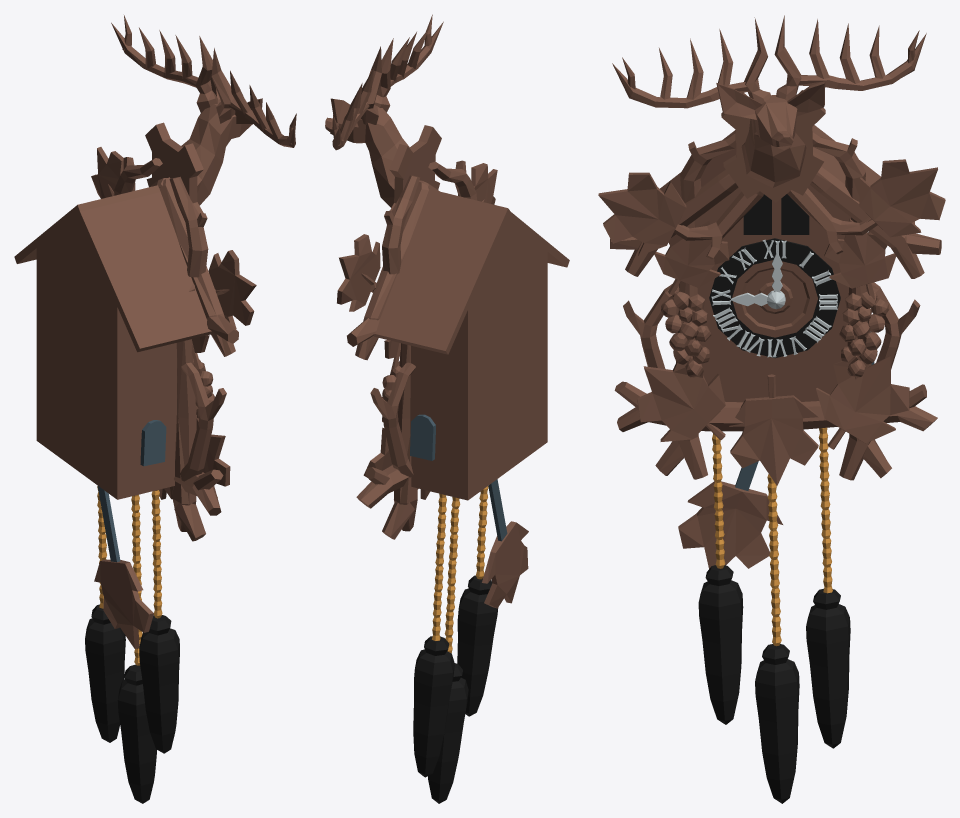
Rendered from Cuckoo Clock.glb.
3 renders of one model, left to right at view 1: azimuth 30°, elevation 25°; view 2: azimuth 150°, elevation 25°; view 3: azimuth 270°, elevation 25°, orthographic. The views are drawn at different scales.
Parts seen in each view (by area): view 1: group1898770258, group2049746579, group229731176, group973043060, group1690219344, group1843510031, group2101479254, group2086585803, group1040398768, group149781242, group1944774651, group93736090 (+10 smaller); view 2: group1898770258, group2049746579, group973043060, group229731176, group1690219344, group1843510031, group1066459945, group2086585803, group1139508654, group574832701, group1225329467, group1139117204 (+10 smaller); view 3: group1898770258, group2049746579, group1349475650, group1690219344, group1843510031, group229731176, group973043060, group2034002443, group1252989858, group813974577, group1040398768, group1066459945 (+22 smaller).
Part boxes in pixels (box(x1,y1,x2,y2)): group1898770258: box(14, 185, 213, 499); group2049746579: box(111, 15, 296, 205); group229731176: box(139, 615, 179, 753); group973043060: box(85, 604, 125, 742); group1690219344: box(94, 486, 153, 648); group1843510031: box(117, 664, 156, 803); group2101479254: box(172, 283, 196, 531); group2086585803: box(145, 122, 203, 213); group1040398768: box(208, 250, 256, 328); group149781242: box(159, 177, 235, 356); group1944774651: box(180, 362, 226, 481); group93736090: box(169, 176, 208, 277); group1898770258: box(373, 189, 569, 500); group2049746579: box(325, 14, 443, 207); group973043060: box(413, 636, 454, 777); group229731176: box(457, 575, 498, 716); group1690219344: box(482, 479, 528, 608); group1843510031: box(428, 663, 468, 803); group1066459945: box(337, 234, 380, 311); group2086585803: box(389, 125, 441, 210); group1139508654: box(355, 181, 429, 360); group574832701: box(370, 362, 415, 477); group1225329467: box(382, 175, 419, 274); group1139117204: box(394, 343, 417, 531); group1898770258: box(660, 125, 914, 402); group2049746579: box(612, 15, 926, 187); group1349475650: box(709, 238, 840, 358); group1690219344: box(678, 461, 782, 568); group1843510031: box(755, 644, 799, 803); group229731176: box(698, 565, 743, 724); group973043060: box(806, 588, 850, 748); group2034002443: box(729, 395, 818, 485); group1252989858: box(816, 355, 909, 443); group813974577: box(637, 356, 725, 441); group1040398768: box(598, 172, 686, 255); group1066459945: box(859, 159, 945, 237).
Bounding box in the file's own units: 0.3615 × 1.45 × 0.5543.
